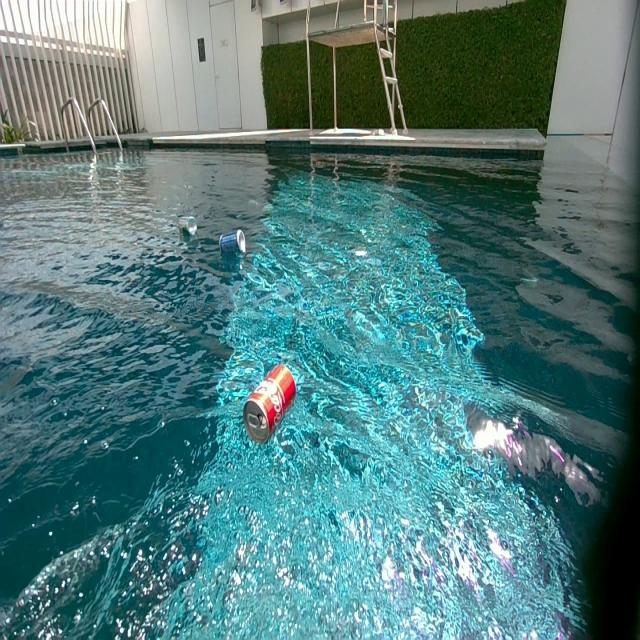Cans: (245, 361, 298, 441), (220, 229, 247, 258), (183, 217, 197, 235)
